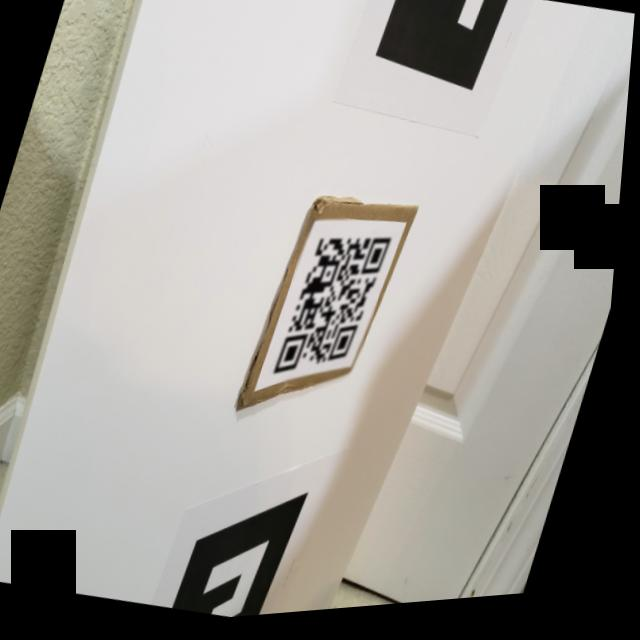QR_CODE: (266, 212, 406, 404)
